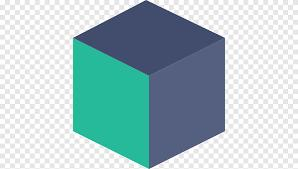cube: (74, 1, 225, 169)
